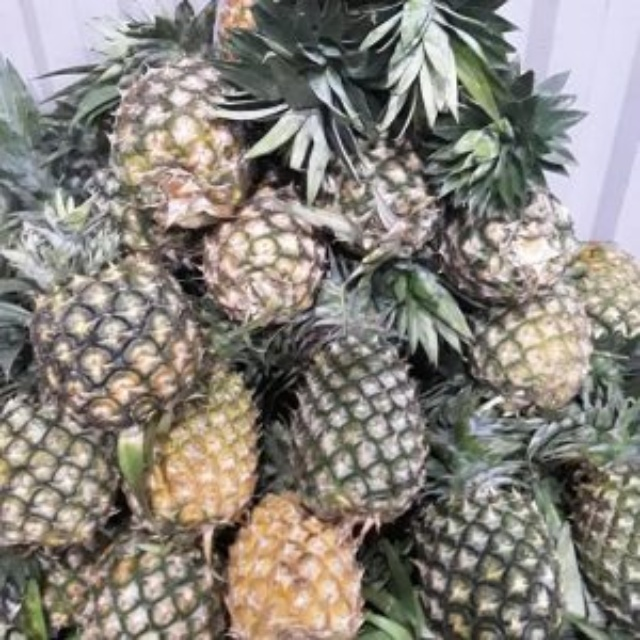thom: (10, 234, 210, 417), (409, 453, 573, 638), (289, 319, 433, 529)
